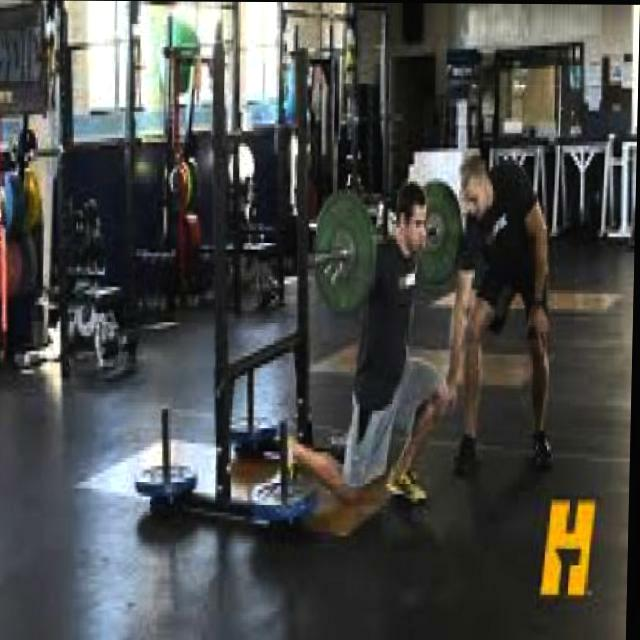barbell: (303, 186, 380, 320)
